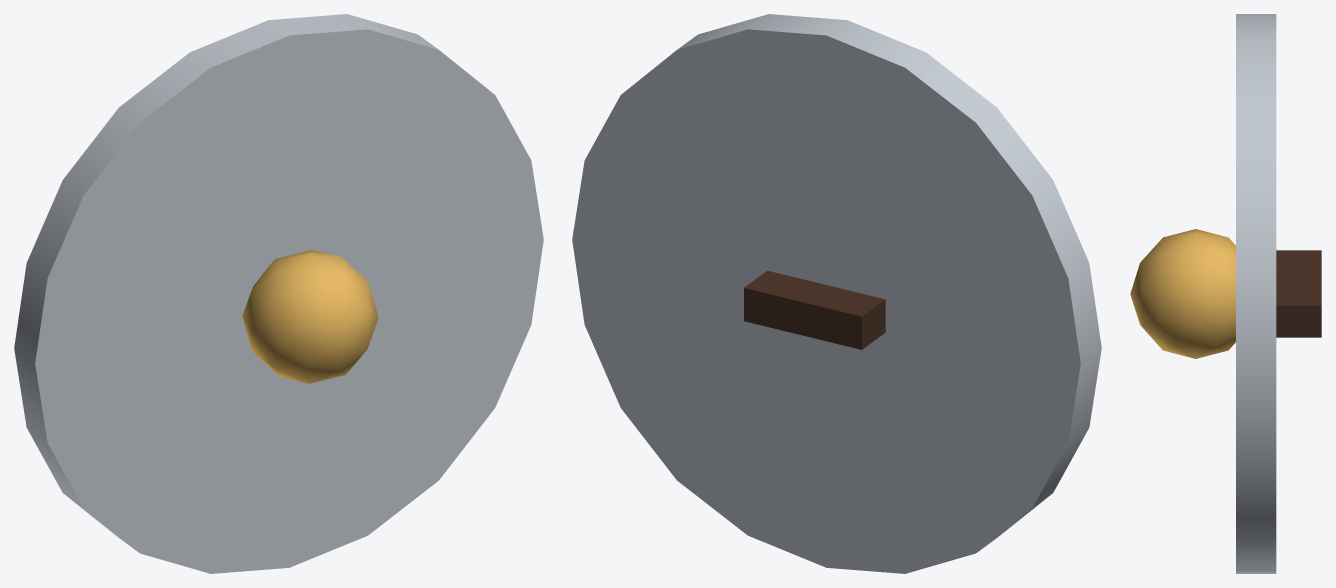
The model's file is conquistador-rodela.glb.
The picture shows the model from 3 angles, left to right: view 1: azimuth 30°, elevation 25°; view 2: azimuth 150°, elevation 25°; view 3: azimuth 270°, elevation 25°; orthographic projection. The views are drawn at different scales.
Visible parts, largest first — view 1: RoundShield, Boss; view 2: RoundShield, RearGrip; view 3: RoundShield, Boss, RearGrip.
Part boxes in pixels (<box>): RoundShield: <box>14,14,543,573</box>; Boss: <box>242,250,378,383</box>; RoundShield: <box>572,14,1101,573</box>; RearGrip: <box>744,270,885,349</box>; RoundShield: <box>1236,14,1276,573</box>; Boss: <box>1130,229,1235,358</box>; RearGrip: <box>1276,250,1321,337</box>.
Bounding box in the file's own units: 0.56 × 0.56 × 0.19.
